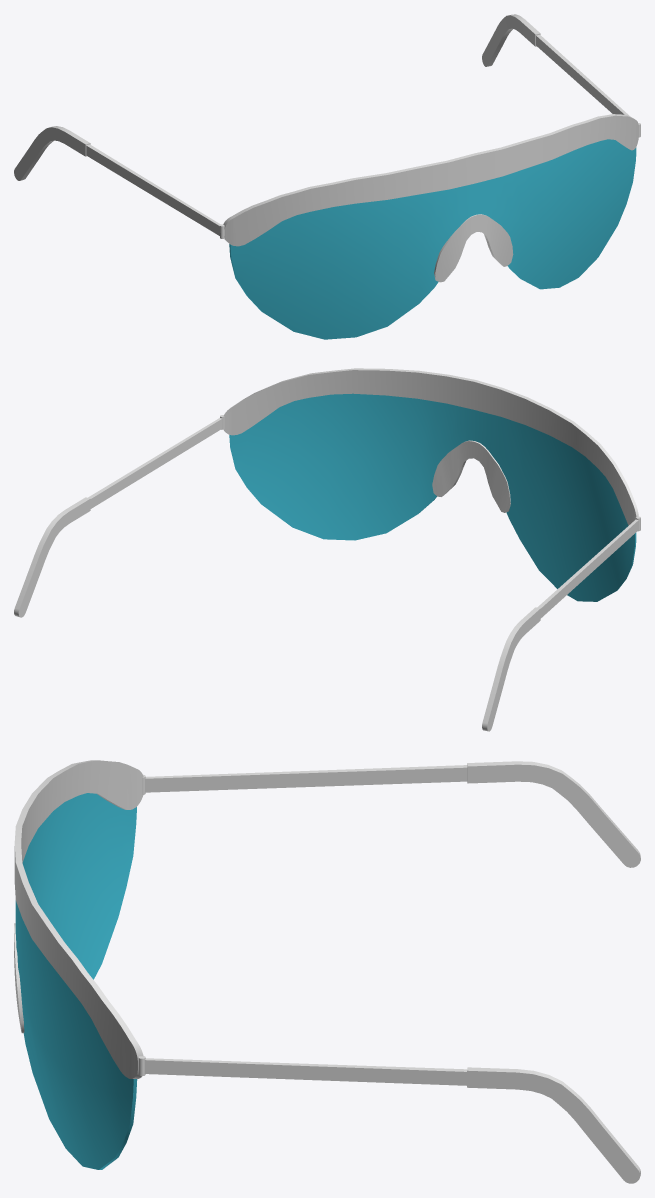
The model's file is shield.glb.
The picture shows the model from 3 angles, top to bottom: view 1: azimuth 30°, elevation 25°; view 2: azimuth 150°, elevation 25°; view 3: azimuth 270°, elevation 25°; orthographic projection. The views are drawn at different scales.
Parts seen in each view (by area): view 1: glasses21.001_glasses21.003_Material.008, glasses21.001_glasses21.003_black; view 2: glasses21.001_glasses21.003_Material.008, glasses21.001_glasses21.003_black; view 3: glasses21.001_glasses21.003_black, glasses21.001_glasses21.003_Material.008.
Part boxes in pixels (left/top/right/bottom): glasses21.001_glasses21.003_Material.008: left=229, top=139, right=636, bottom=339; glasses21.001_glasses21.003_black: left=14, top=14, right=640, bottom=282; glasses21.001_glasses21.003_Material.008: left=229, top=393, right=636, bottom=601; glasses21.001_glasses21.003_black: left=14, top=368, right=640, bottom=731; glasses21.001_glasses21.003_black: left=14, top=760, right=640, bottom=1183; glasses21.001_glasses21.003_Material.008: left=15, top=793, right=137, bottom=1169.
Size of the model in its own units: 2.11 by 0.7317 by 1.75.
